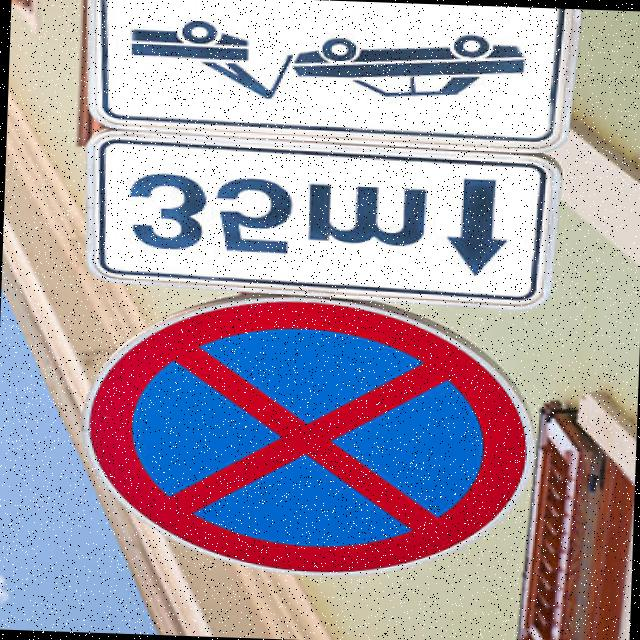no_parking: (67, 292, 560, 590)
